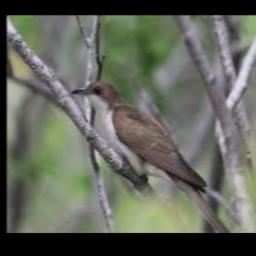Cuckoo: (70, 82, 231, 233)
